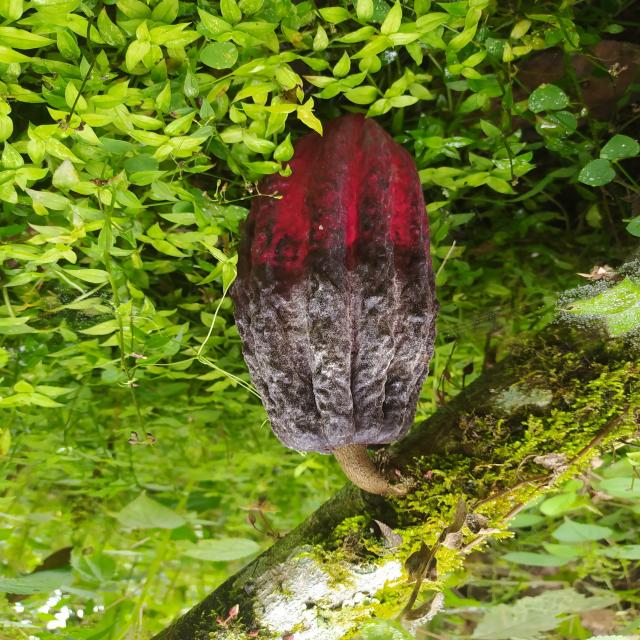Fitoftora: (234, 114, 438, 454)
